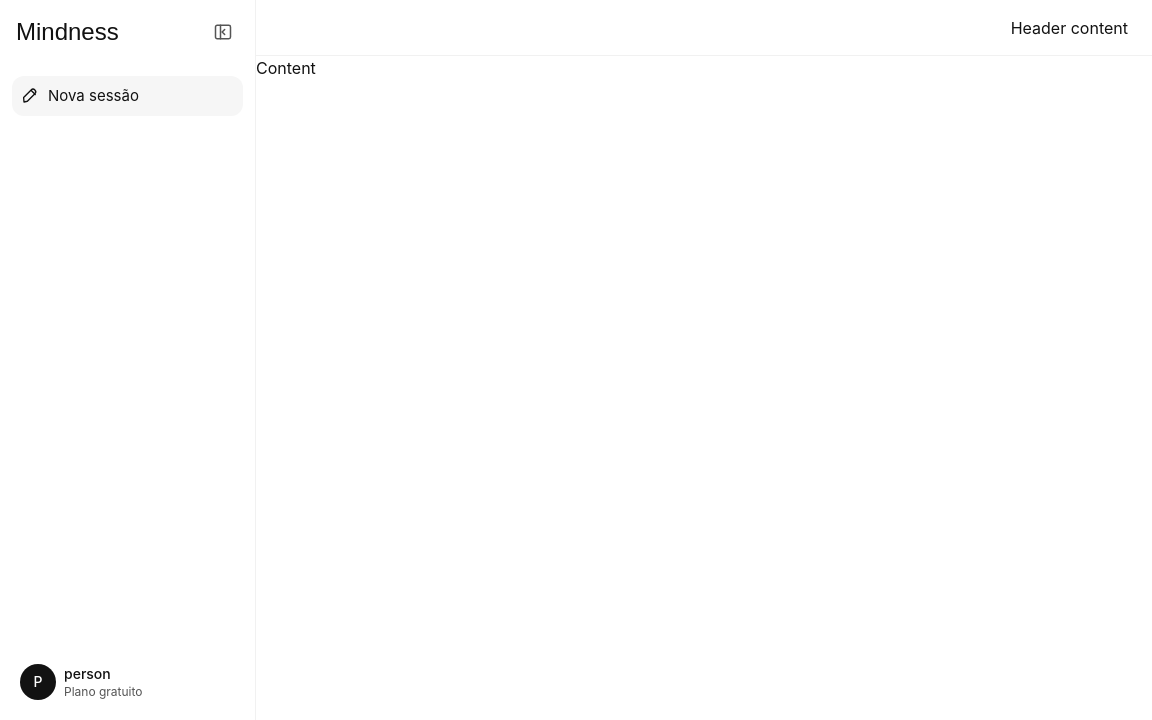
Test case: AuthenticatedShell › opens settings and reports theme changes from the account menu
Click the button with aria-label "Conta": (128, 682) [12,656,243,708]
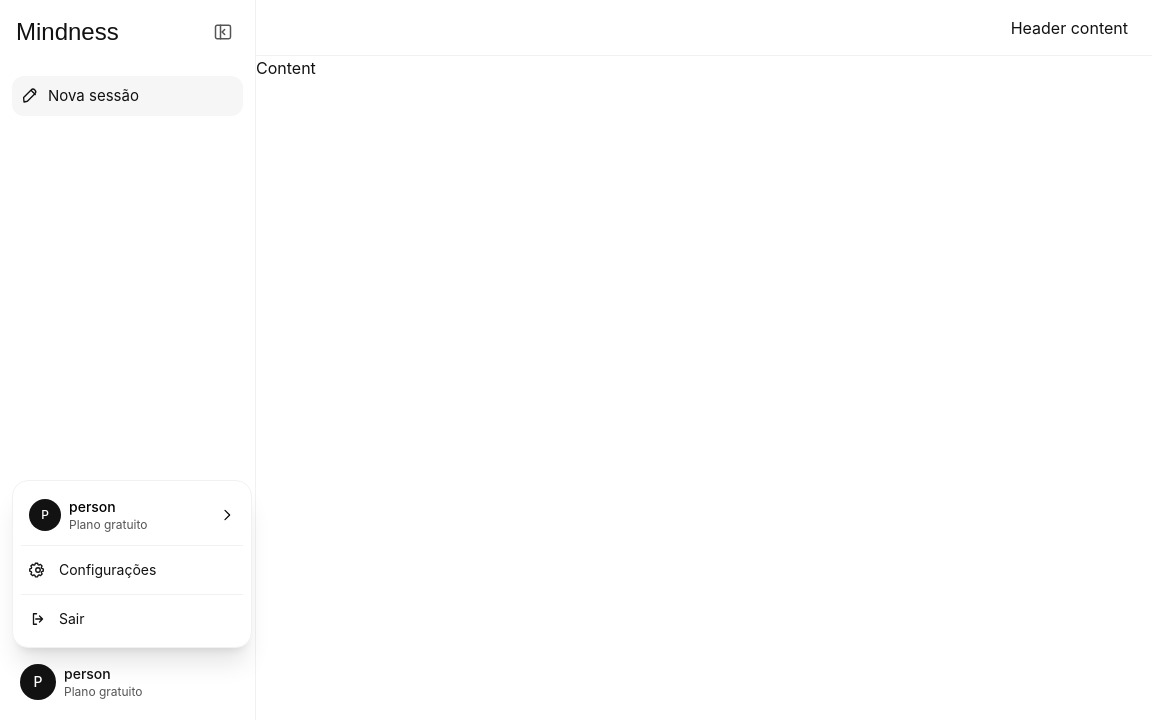
Click the button "Configurações": (132, 570) [21,550,243,590]
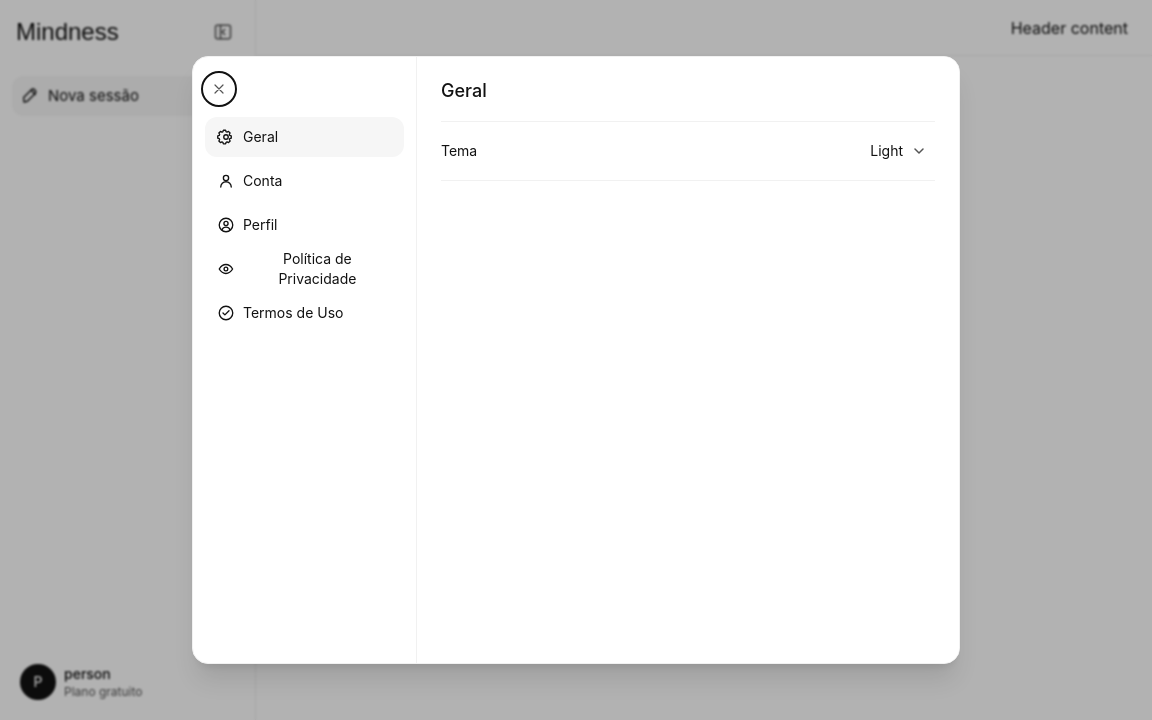
Select "Dark" in the dropdown labelled "Tema": (896, 151) [858,133,935,169]
Click the button named "Fechar configurações": (219, 89) [205,75,233,103]
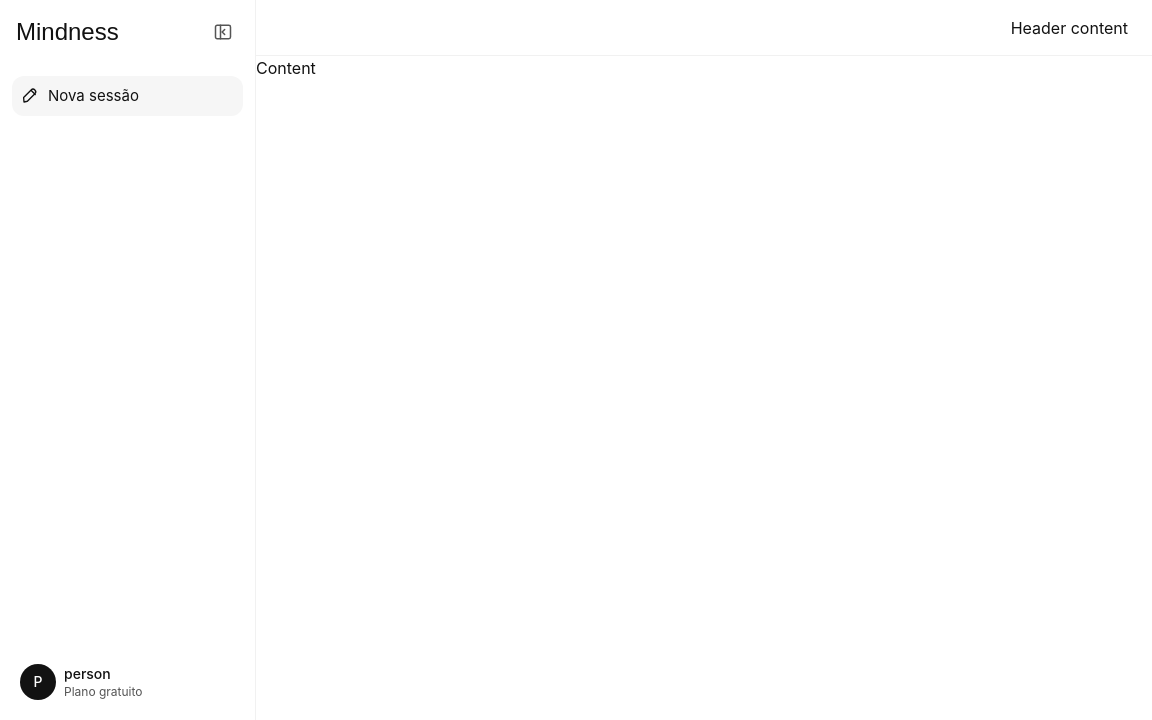
Expected: the button "Configurações" is gone
